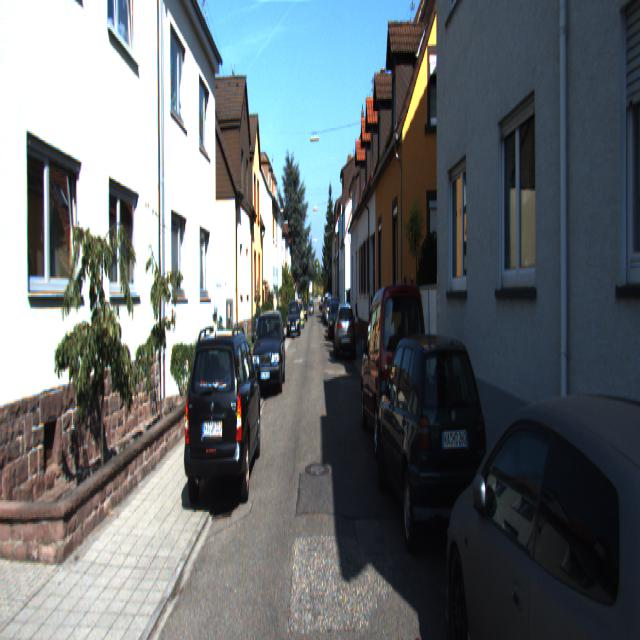Car: (442, 362, 640, 638), (375, 325, 491, 588), (185, 320, 262, 515), (359, 280, 426, 474), (251, 305, 285, 393), (334, 306, 356, 365), (287, 300, 300, 340)
